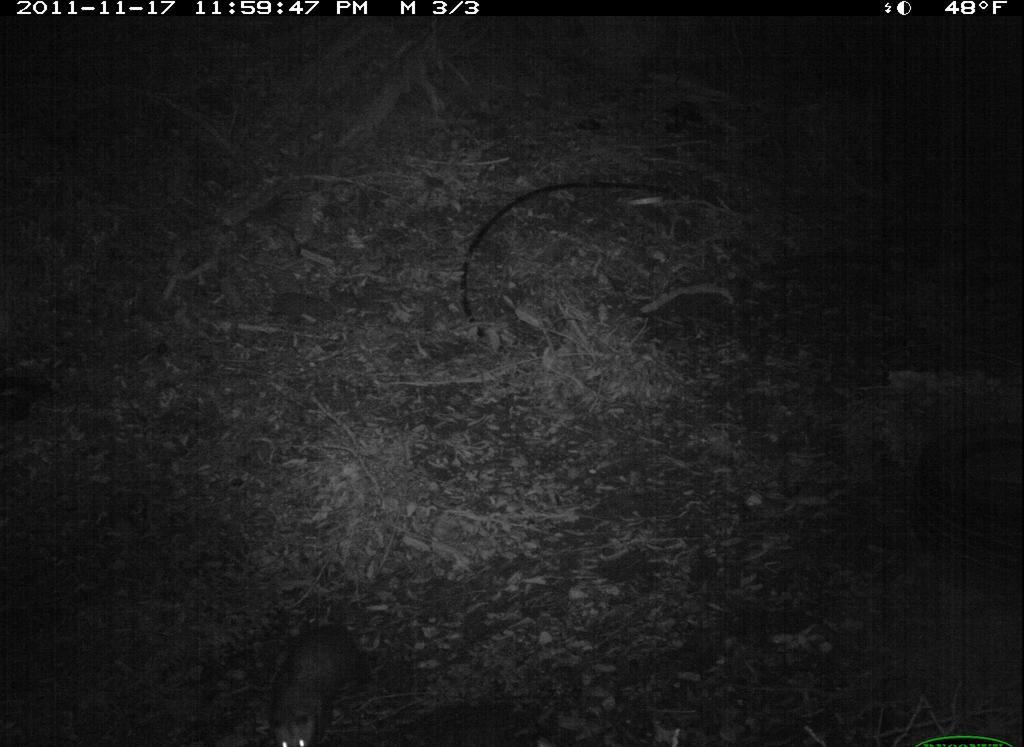opossum: (251, 610, 410, 747)
